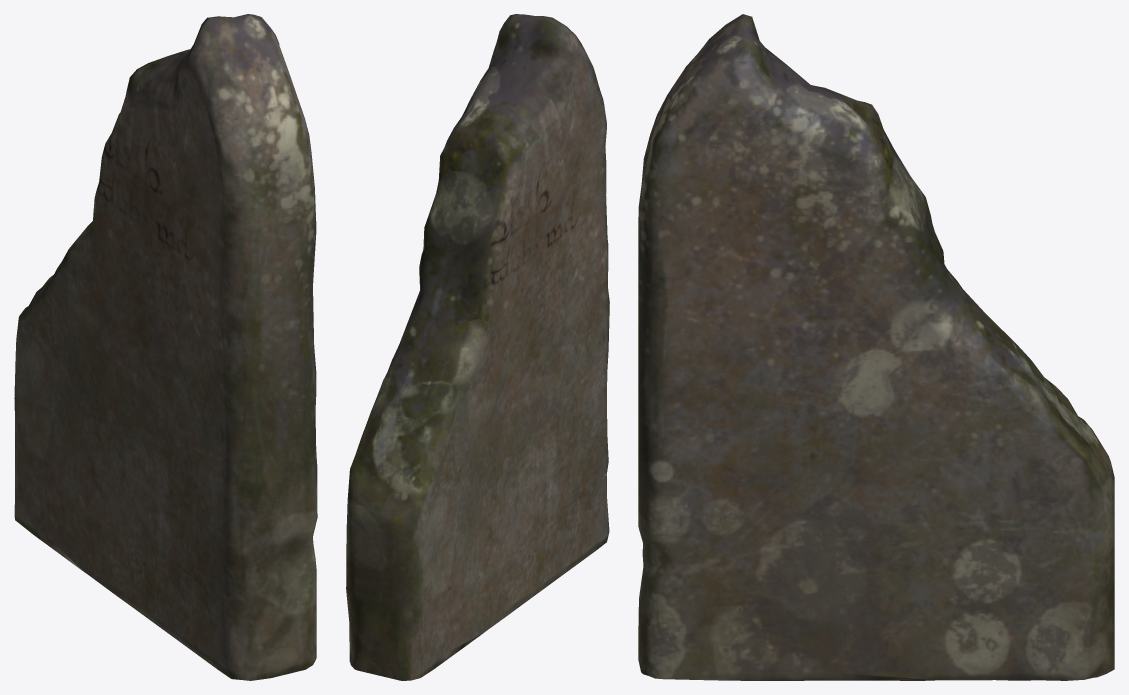
File: SM_TombsBroken_003.fbx
The picture shows the model from 3 angles, left to right: view 1: azimuth 30°, elevation 25°; view 2: azimuth 150°, elevation 25°; view 3: azimuth 270°, elevation 25°; orthographic projection. The views are drawn at different scales.
Visible parts, largest first — view 1: SM_TombsBroken_003_LOD0; view 2: SM_TombsBroken_003_LOD0; view 3: SM_TombsBroken_003_LOD0.
Part boxes in pixels (bbox=[...]): SM_TombsBroken_003_LOD0: bbox=[14, 14, 317, 680]; SM_TombsBroken_003_LOD0: bbox=[346, 14, 609, 680]; SM_TombsBroken_003_LOD0: bbox=[638, 14, 1114, 680].
Size of the model in its own units: 10.21 by 47.42 by 69.91.
1 material, 1 textured.
